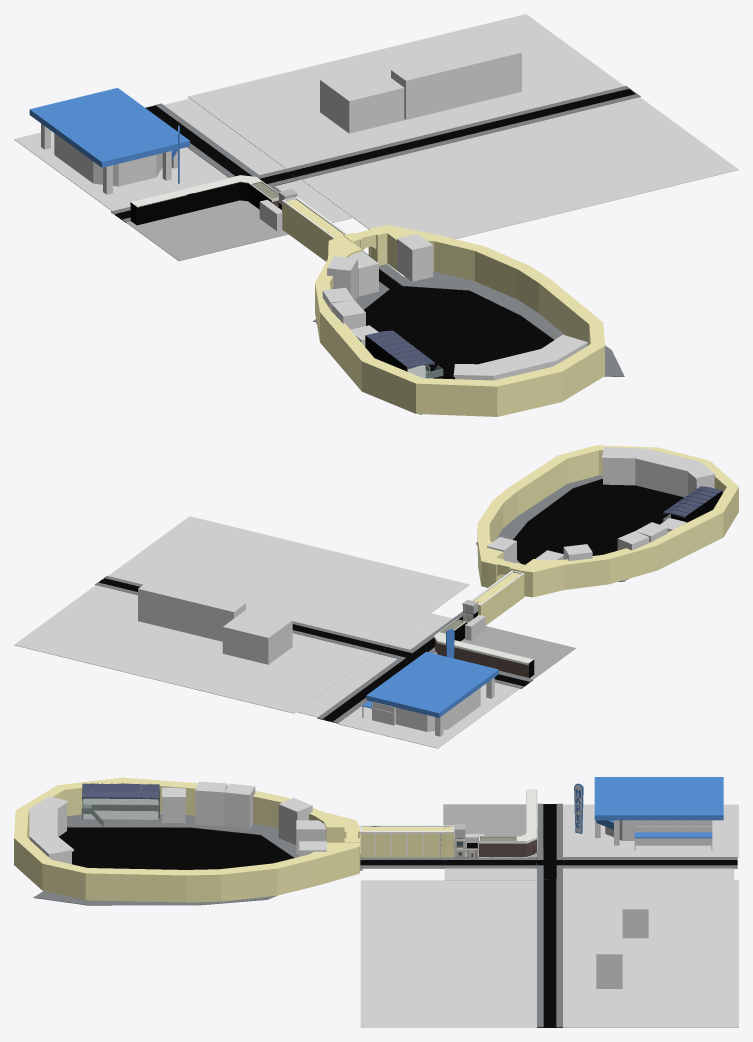
Rendered from Edificios4fbx.fbx.
The picture shows the model from 3 angles, top to bottom: view 1: azimuth 30°, elevation 25°; view 2: azimuth 150°, elevation 25°; view 3: azimuth 270°, elevation 25°; orthographic projection. The views are drawn at different scales.
Parts seen in each view (by area): view 1: Cube.041, Cube.029, Cube.043, Cube.042, Cube.030, Cube.034, Cube.027, Cube.008, Cube.032, Cube.012, Cube.002, Cube.039 (+12 smaller); view 2: Cube.041, Cube.029, Cube.043, Cube.042, Cube.030, Cube.034, Cube.044, Cube.032, Cube.012, Cube.008, Cube.002, Cube.031 (+8 smaller); view 3: Cube.041, Cube.029, Cube.043, Cube.042, Cube.030, Cube.012, Cube.027, Cube.039, Cube.040, Cube.035, Cube.008, Cube.034 (+18 smaller).
Boxes of the visible parts, bbox=[...] form: Cube.041: bbox=[302, 97, 738, 239]; Cube.029: bbox=[188, 14, 624, 168]; Cube.043: bbox=[315, 224, 604, 416]; Cube.042: bbox=[364, 269, 553, 379]; Cube.030: bbox=[29, 88, 189, 167]; Cube.034: bbox=[391, 42, 521, 119]; Cube.027: bbox=[283, 86, 640, 180]; Cube.008: bbox=[126, 200, 288, 261]; Cube.032: bbox=[320, 66, 404, 133]; Cube.012: bbox=[14, 131, 228, 210]; Cube.002: bbox=[130, 175, 278, 225]; Cube.039: bbox=[313, 264, 624, 414]; Cube.041: bbox=[108, 516, 469, 644]; Cube.029: bbox=[14, 585, 375, 713]; Cube.043: bbox=[477, 445, 738, 597]; Cube.042: bbox=[513, 479, 683, 564]; Cube.030: bbox=[366, 651, 498, 717]; Cube.034: bbox=[138, 580, 245, 641]; Cube.044: bbox=[602, 447, 715, 497]; Cube.032: bbox=[222, 609, 292, 664]; Cube.012: bbox=[338, 682, 519, 748]; Cube.008: bbox=[434, 626, 575, 679]; Cube.002: bbox=[433, 619, 534, 678]; Cube.031: bbox=[297, 653, 397, 717]; Cube.041: bbox=[360, 880, 536, 1027]; Cube.029: bbox=[563, 880, 738, 1027]; Cube.043: bbox=[14, 777, 359, 902]; Cube.042: bbox=[59, 827, 362, 869]; Cube.030: bbox=[594, 777, 723, 820]; Cube.012: bbox=[563, 804, 738, 857]; Cube.027: bbox=[537, 878, 562, 1027]; Cube.039: bbox=[29, 813, 362, 905]; Cube.040: bbox=[81, 783, 159, 826]; Cube.035: bbox=[360, 825, 443, 857]; Cube.008: bbox=[443, 804, 536, 856]; Cube.034: bbox=[596, 904, 622, 988].
Size of the model in its own units: 13299 by 1513 by 18205.
